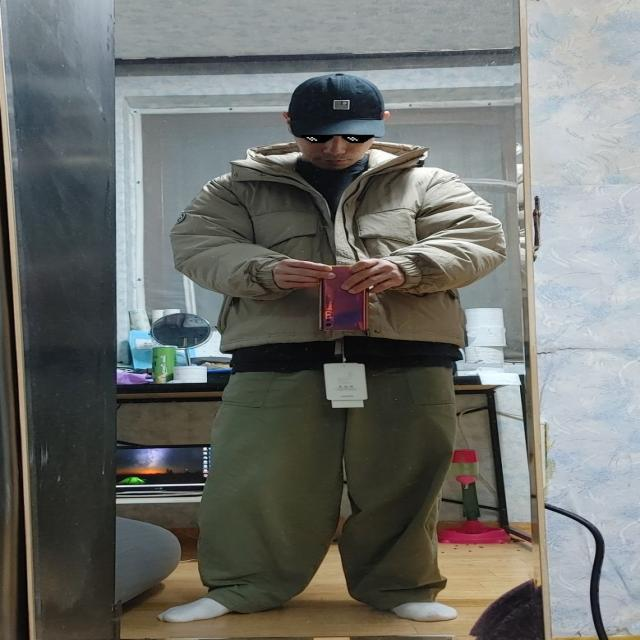cottonpants: (194, 354, 457, 610)
padding: (172, 135, 514, 352)
